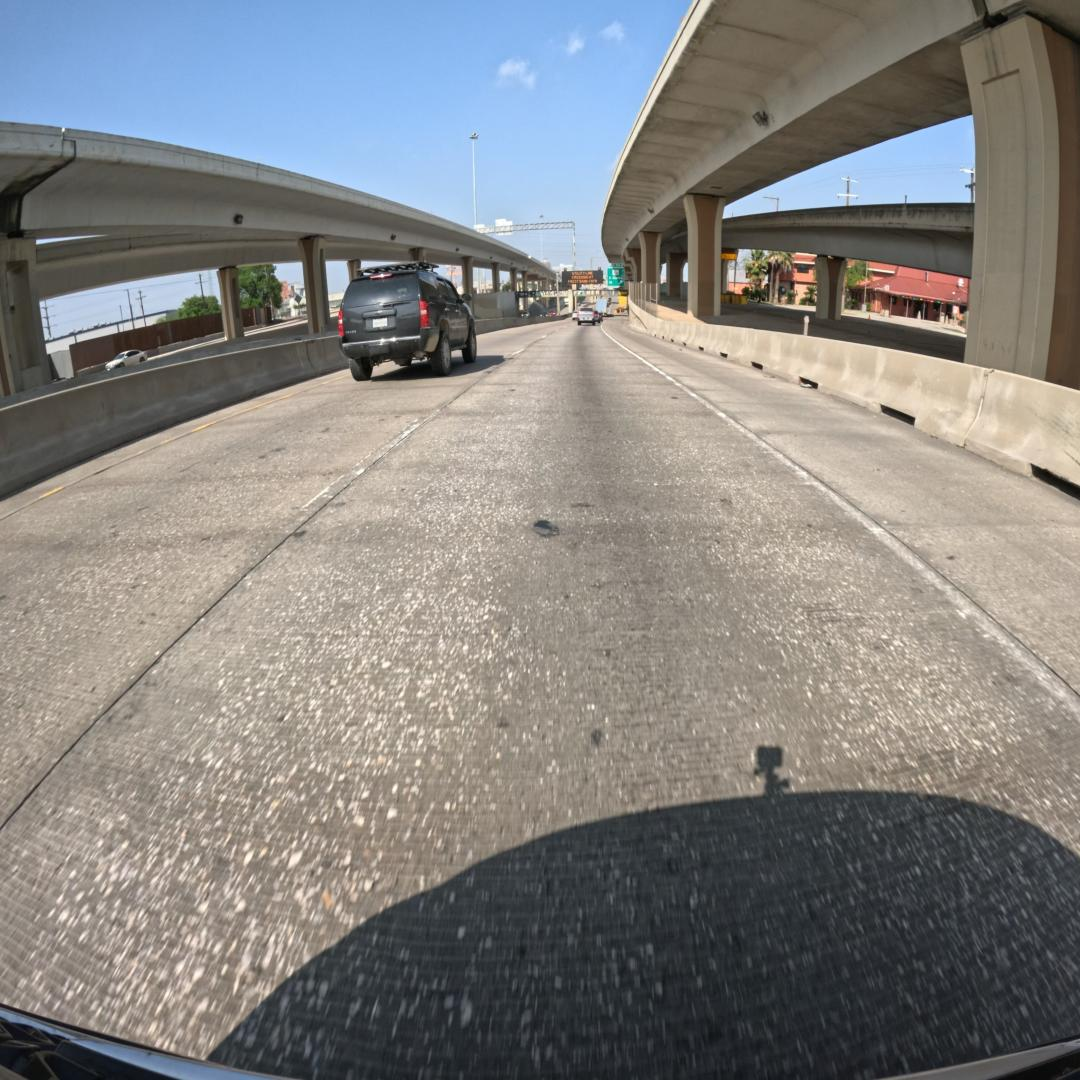lane0: (0, 330, 1080, 1077)
lane1: (0, 325, 553, 827)
